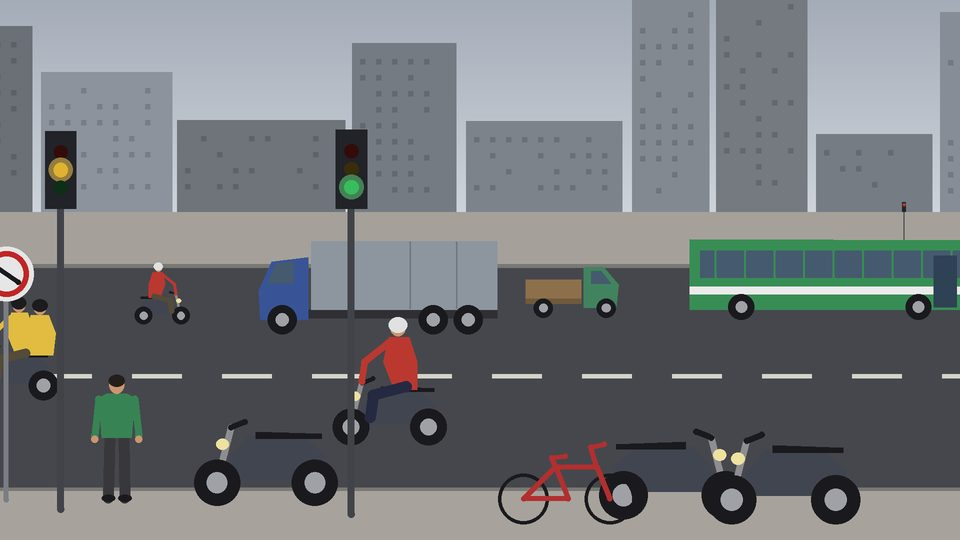Bicycle: (498, 442, 635, 525)
Bus: (690, 240, 960, 320)
Motorcycle: (708, 432, 861, 525), (194, 419, 338, 506), (612, 429, 735, 519)
Motorcyclist: (333, 317, 446, 446), (0, 297, 59, 401), (135, 263, 190, 325)
Other vehicle: (526, 280, 582, 318)
Pedestrian: (91, 375, 143, 504)
Sign: (0, 247, 34, 301)
Traffic light: (336, 130, 368, 209), (45, 131, 77, 209)
Truck: (259, 241, 498, 335)
